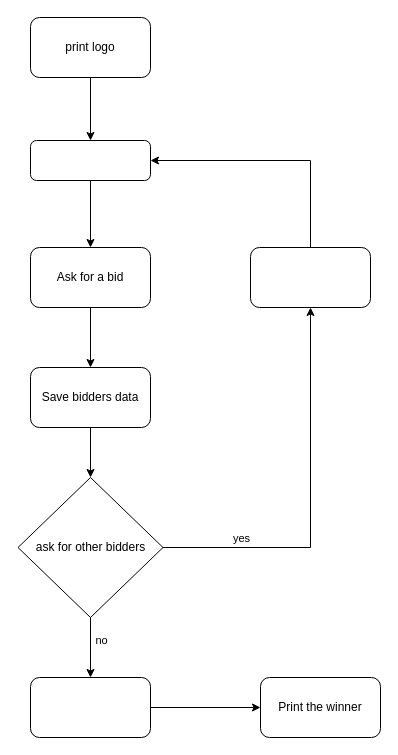
Some shapes in this 398 by 755 pixel diagram are drawn without their labels. The box of each missing label's shape, as (x1, y1, x2, y2) in pixels:
Ask for a name: (30, 140, 150, 180)
Calculate highest bid: (30, 676, 150, 738)
Clear screen: (250, 246, 370, 308)
